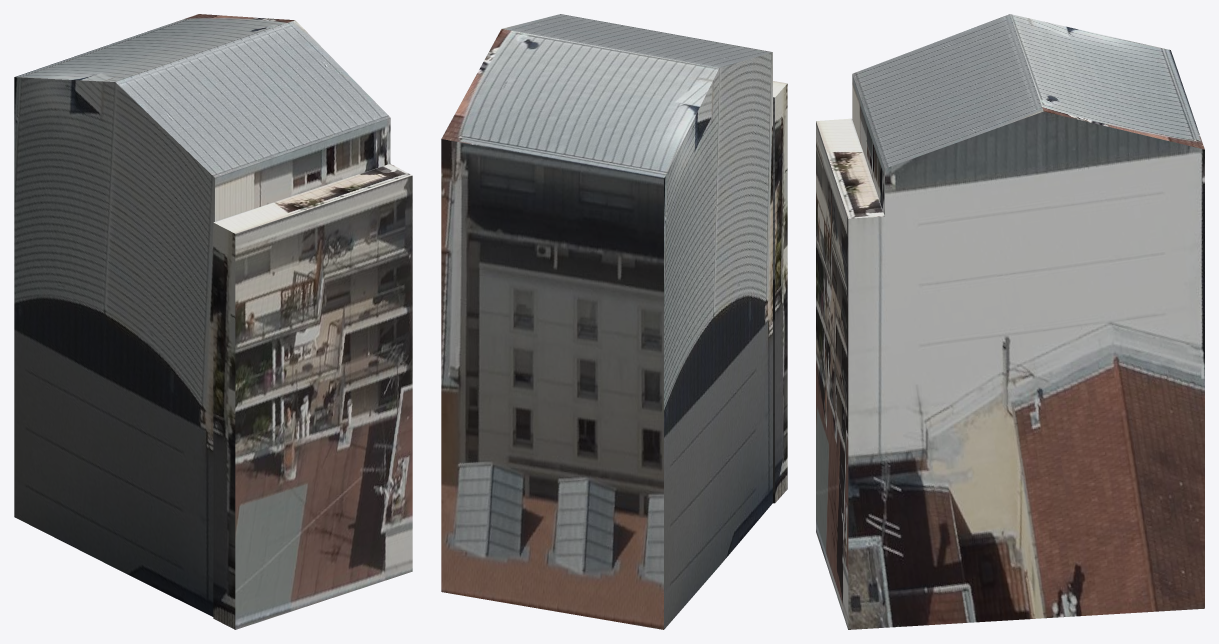
3 views of the same model, side by side, from view 1: azimuth 30°, elevation 25°; view 2: azimuth 150°, elevation 25°; view 3: azimuth 270°, elevation 25° (orthographic). The views are drawn at different scales.
Parts seen in each view (by area): view 1: Z_UP; view 2: Z_UP; view 3: Z_UP.
Part boxes in pixels (x1,y1,x2,y2): Z_UP: (14, 14, 412, 629); Z_UP: (441, 14, 787, 629); Z_UP: (816, 14, 1204, 629).
Bounding box in the file's own units: 12.12 × 23.28 × 16.19.
Materials: 2 (1 with a texture image).
